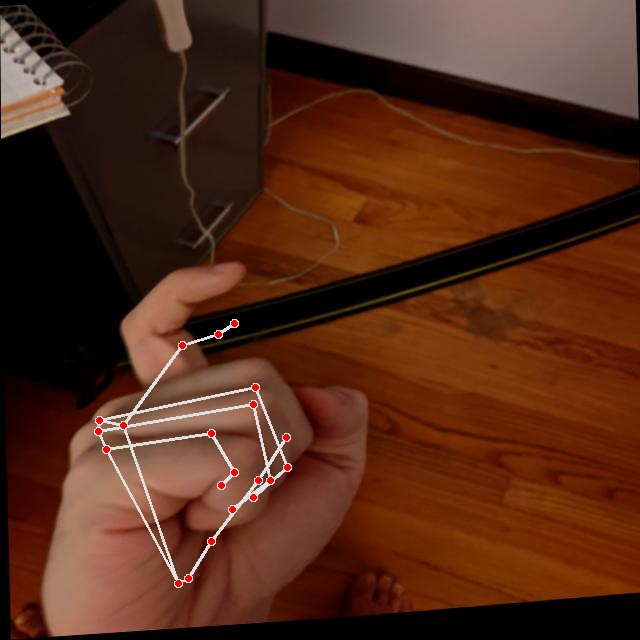X: (22, 246, 387, 638)
